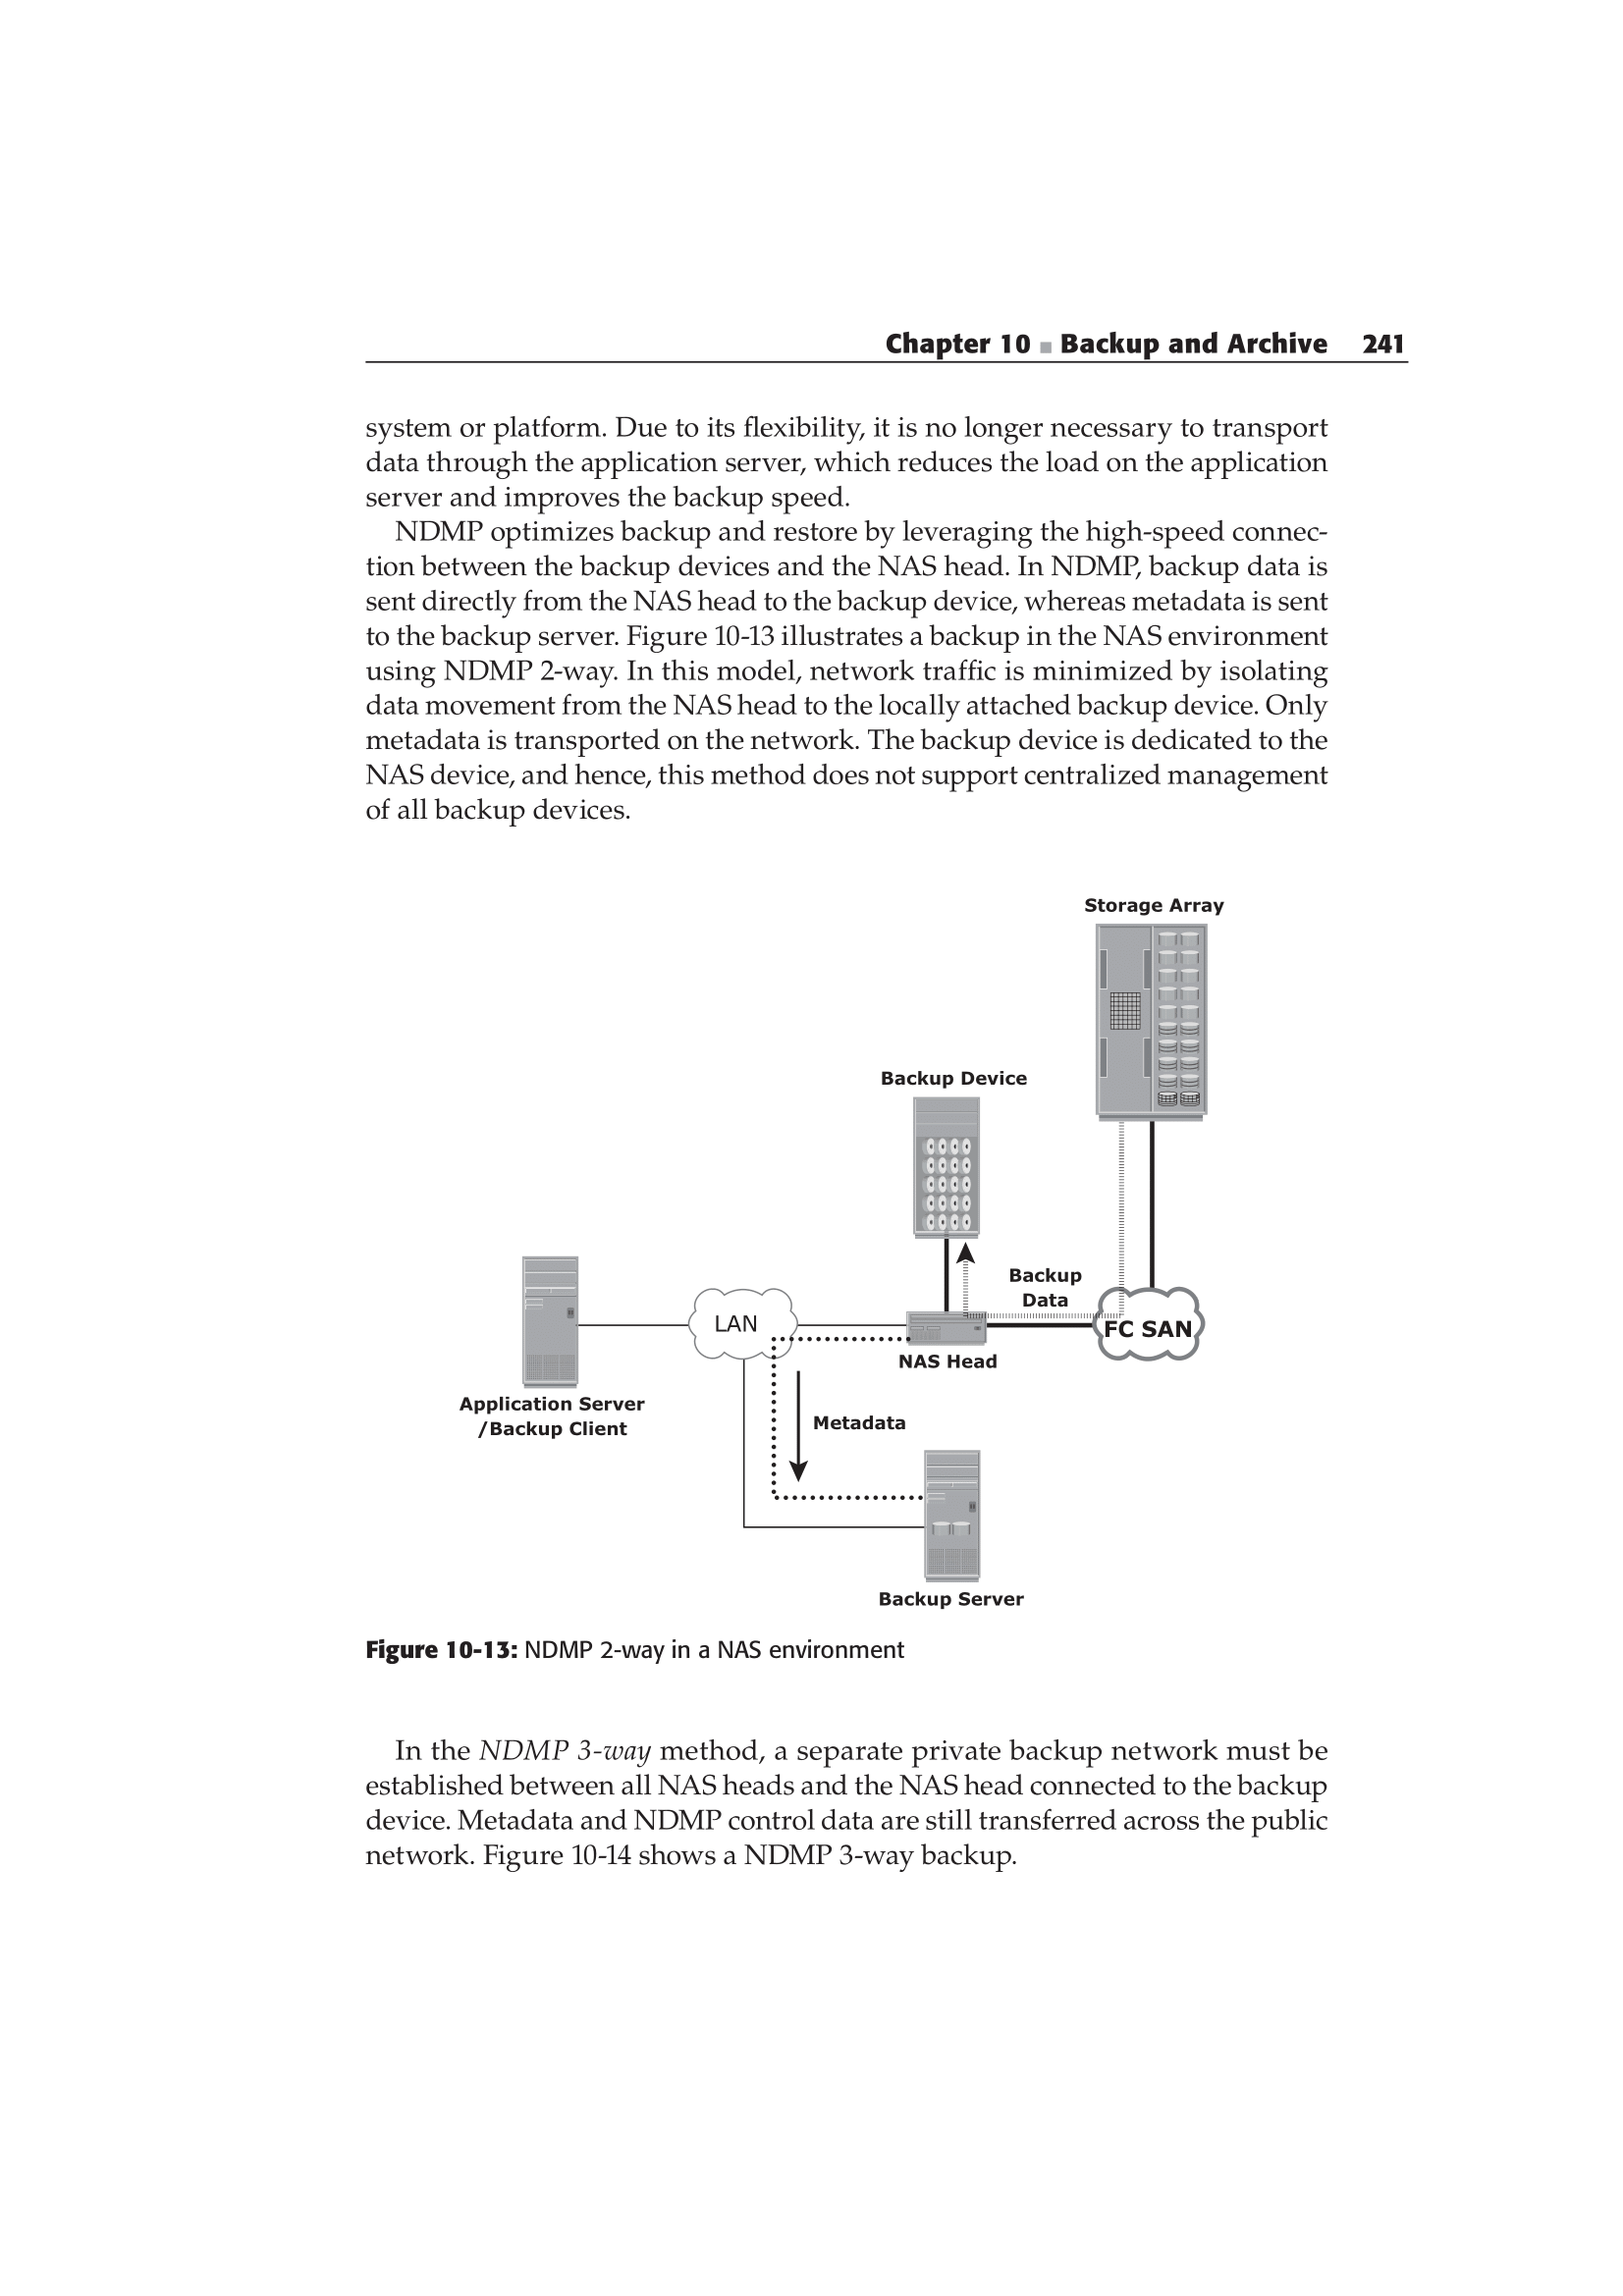Image: (351, 862, 1273, 1629)
Paragraph: (348, 520, 1342, 822), (357, 1711, 1365, 1908), (306, 402, 1342, 507), (337, 1620, 963, 1685), (876, 314, 1430, 370)
